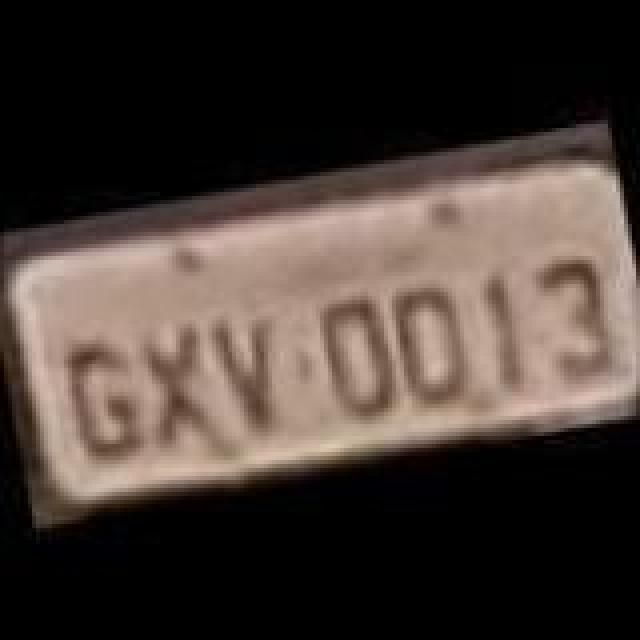1: (468, 258, 540, 394)
3: (526, 246, 626, 378)
G: (56, 330, 156, 462)
O: (380, 270, 476, 410), (304, 284, 400, 424)
V: (202, 302, 294, 442)
X: (122, 318, 226, 458)
